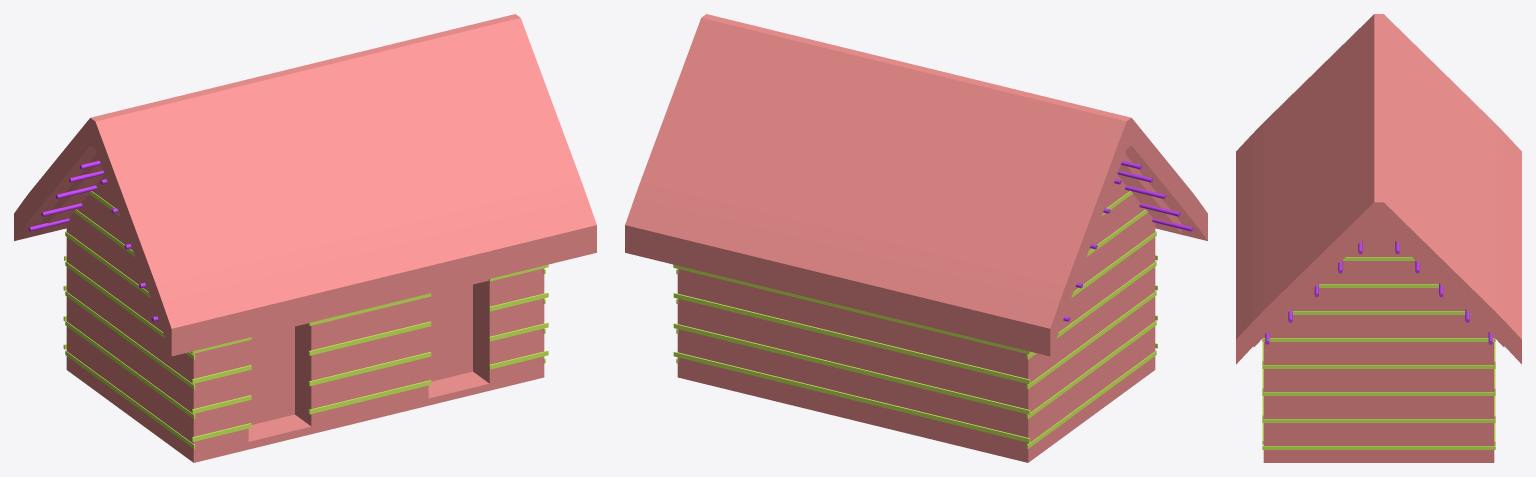
3 views of the same model, side by side, from view 1: azimuth 30°, elevation 25°; view 2: azimuth 150°, elevation 25°; view 3: azimuth 270°, elevation 25° (orthographic). The views are drawn at different scales.
Visible parts, largest first — view 1: 房子主體, 房子周圍橫柱, 屋簷柱; view 2: 房子主體, 房子周圍橫柱, 屋簷柱; view 3: 房子主體, 房子周圍橫柱, 屋簷柱.
Part boxes in pixels (box(x1,y1,x2,y2)): 房子主體: box(14, 14, 596, 462); 房子周圍橫柱: box(63, 174, 548, 448); 屋簷柱: box(28, 160, 158, 321); 房子主體: box(625, 14, 1207, 462); 房子周圍橫柱: box(673, 174, 1157, 448); 屋簷柱: box(1063, 160, 1193, 321); 房子主體: box(1236, 14, 1521, 462); 房子周圍橫柱: box(1262, 257, 1495, 449); 屋簷柱: box(1265, 241, 1492, 344).
Size of the model in its own units: 309 by 211 by 197.
